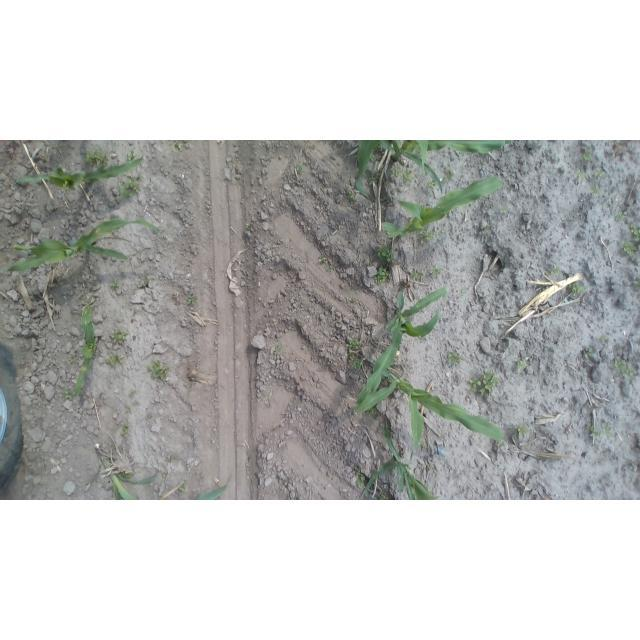Maize: (358, 362, 507, 456), (355, 283, 449, 409), (6, 214, 161, 275), (353, 140, 514, 198), (379, 173, 506, 243), (91, 445, 235, 500), (358, 427, 451, 500), (16, 151, 149, 197), (65, 289, 106, 402)
Weeds: (468, 371, 502, 398), (118, 175, 142, 202), (610, 355, 635, 380), (147, 360, 170, 381), (85, 149, 110, 168), (375, 243, 395, 265), (391, 167, 415, 185), (108, 327, 129, 346), (104, 353, 125, 370), (620, 240, 639, 258), (346, 335, 365, 353), (586, 424, 602, 444), (317, 254, 332, 275), (419, 228, 437, 245), (374, 267, 390, 286), (570, 280, 586, 298), (516, 422, 532, 439), (447, 350, 464, 366), (409, 266, 425, 282), (183, 293, 200, 308), (355, 468, 367, 489), (442, 168, 457, 184), (516, 357, 531, 373), (630, 223, 640, 245), (615, 209, 629, 224), (581, 148, 594, 164), (125, 150, 141, 162), (582, 346, 594, 362), (350, 356, 362, 372), (603, 423, 614, 439), (366, 407, 379, 420), (64, 387, 76, 401), (346, 187, 358, 201), (429, 265, 443, 277), (273, 343, 285, 357), (499, 204, 512, 216), (263, 393, 276, 405), (458, 285, 469, 299), (372, 157, 380, 176), (121, 421, 130, 437), (140, 276, 152, 288), (592, 186, 603, 199), (121, 470, 135, 480), (426, 181, 438, 192), (244, 219, 252, 234), (630, 277, 640, 289), (482, 224, 491, 237), (595, 168, 605, 179), (551, 265, 562, 275), (110, 279, 119, 290), (166, 455, 176, 464), (576, 169, 585, 179), (379, 492, 390, 500), (163, 469, 170, 481), (128, 388, 137, 397), (421, 443, 430, 452), (178, 484, 186, 494), (174, 141, 184, 149), (296, 163, 304, 173), (368, 177, 376, 187), (67, 353, 74, 364), (438, 229, 446, 238), (600, 334, 608, 343), (427, 464, 435, 473), (125, 406, 133, 414), (345, 295, 353, 302), (351, 284, 357, 293)
